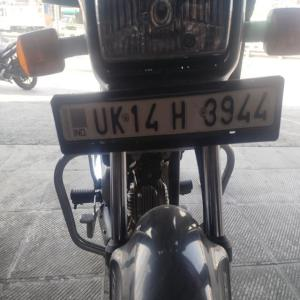Plate: (88, 86, 272, 141)
